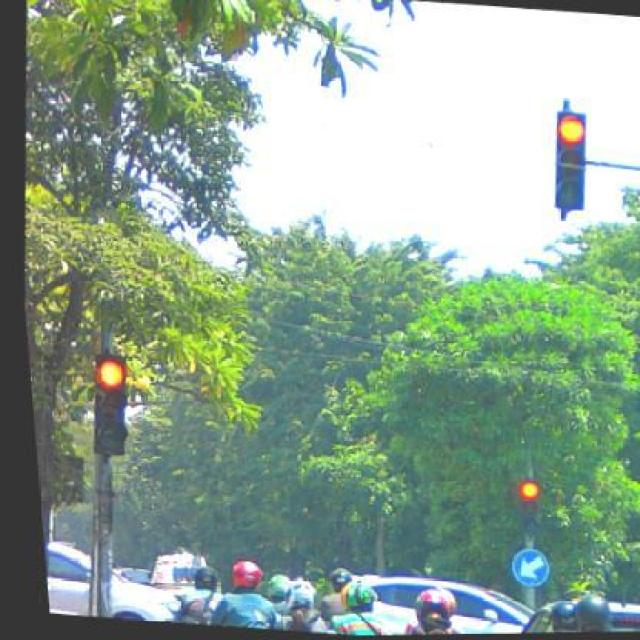Traffic Light -Red-: (88, 351, 129, 463), (551, 103, 591, 215), (513, 476, 551, 540)
